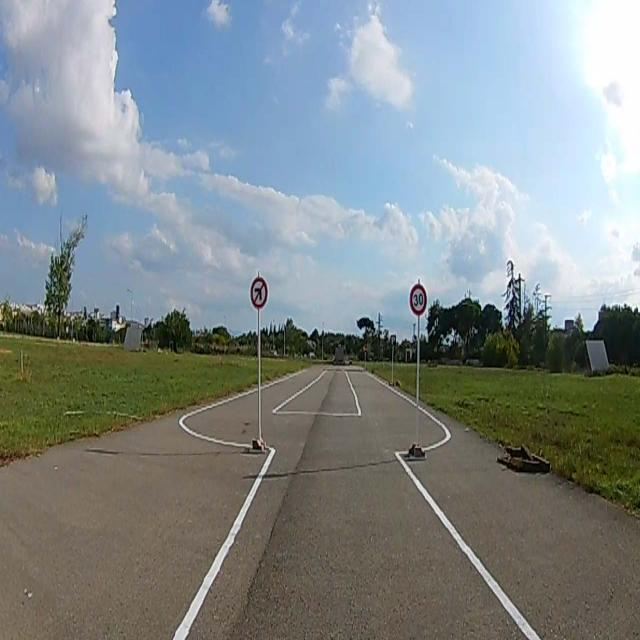30: (410, 285, 426, 315)
soladonulmez: (250, 280, 267, 307)
